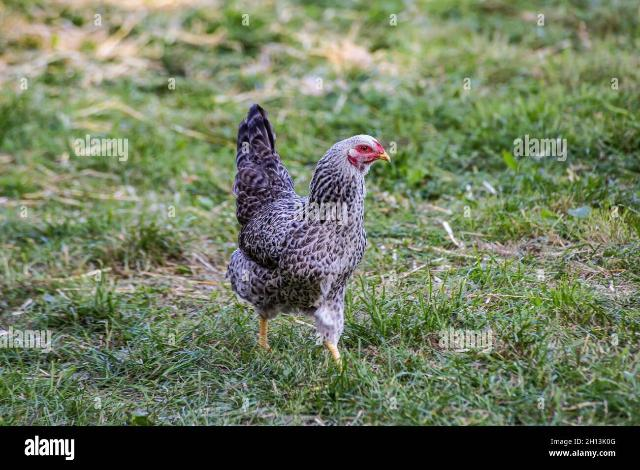Chicken: (226, 103, 392, 373)
